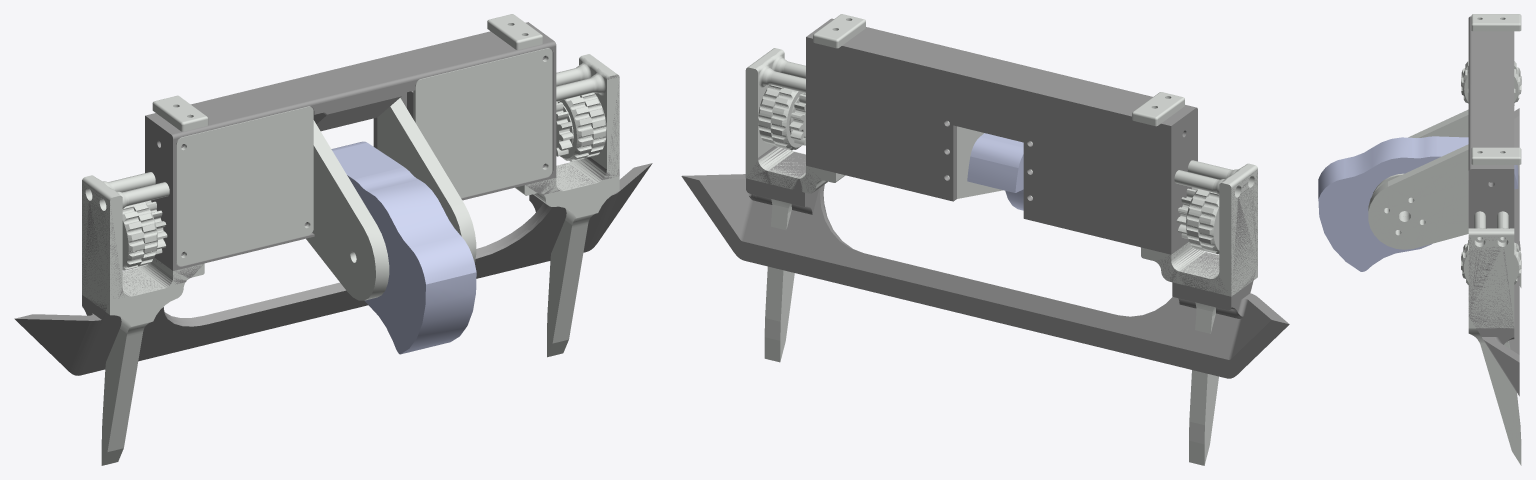
File: plant-tower-vert.glb
3 renders of one model, left to right at view 1: azimuth 30°, elevation 25°; view 2: azimuth 150°, elevation 25°; view 3: azimuth 270°, elevation 25°, orthographic. The views are drawn at different scales.
Bounding box in the file's own units: 303 × 160 × 102.
